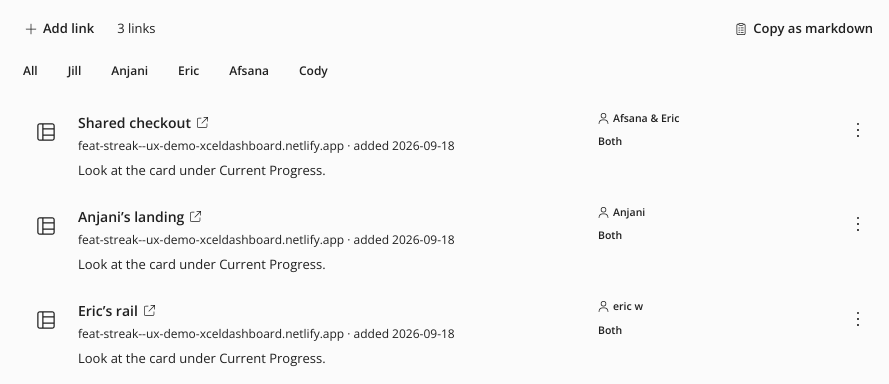
Test: Refinement — designer pills and the archive (2026-10-15) › filters on the typed Added by, loosely — "eric w" and "Afsana & Eric" are both Eric
This screenshot has width=889, height=384.
Expected: the text "3 links" is shown, [117,19,156,38]
Click the button "Eric". click: (189,70)
box: [167,58,210,84]
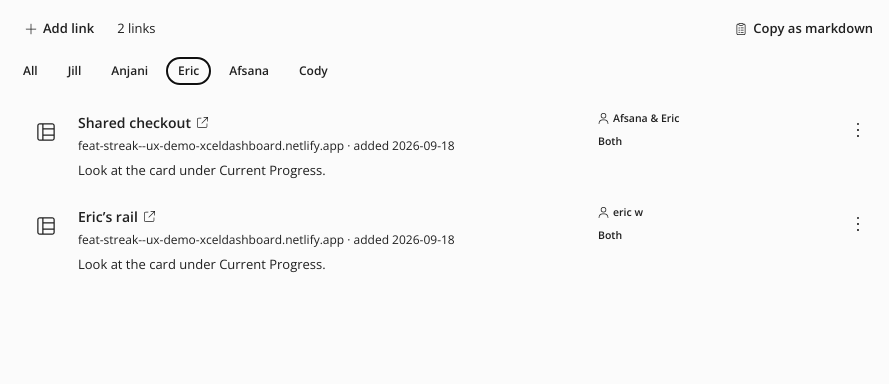
Expected: the link "Eric’s rail" is shown, [78,206,155,227]
Now the link "Anjani’s landing" is gone
Now the text "2 links" is shown, box [117,19,156,38]
Note: A shared row sits under both of its names.
Click the button "Afsana". click: (249,70)
box: [218,58,280,84]
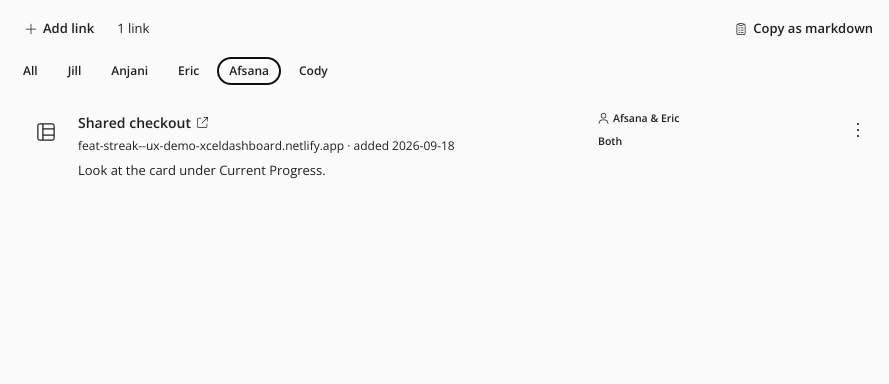
Expected: the link "Shared checkout" is shown, [78,112,208,132]
Now the link "Eric’s rail" is gone
Note: Clicking the active pill clears it.
Click the button "Afsana". click: (249,70)
box: [218,58,280,84]
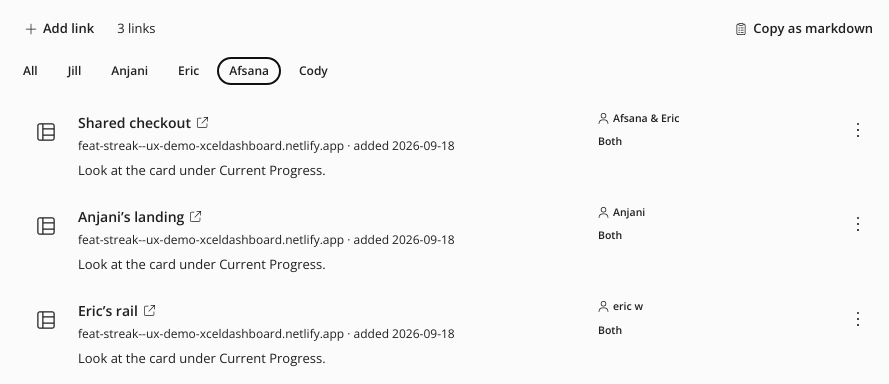
Now the text "3 links" is shown, box [117,19,156,38]
